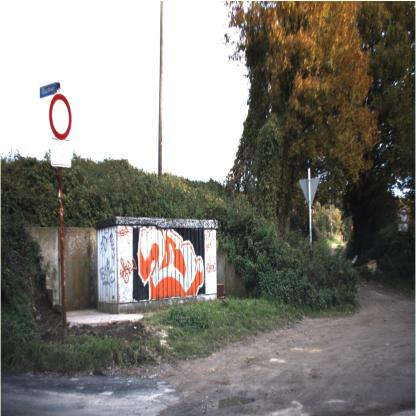no traffic both ways: (48, 93, 72, 139), (398, 208, 409, 224)
